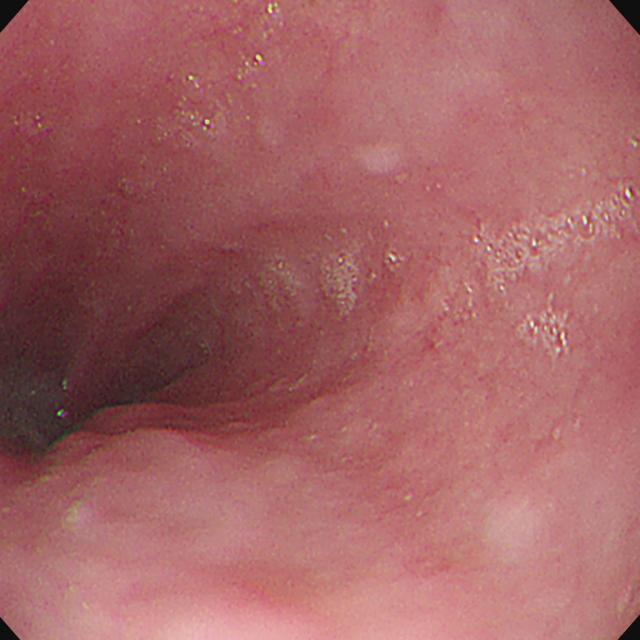T: (473, 179, 640, 294), (317, 251, 367, 319), (519, 307, 572, 360)
